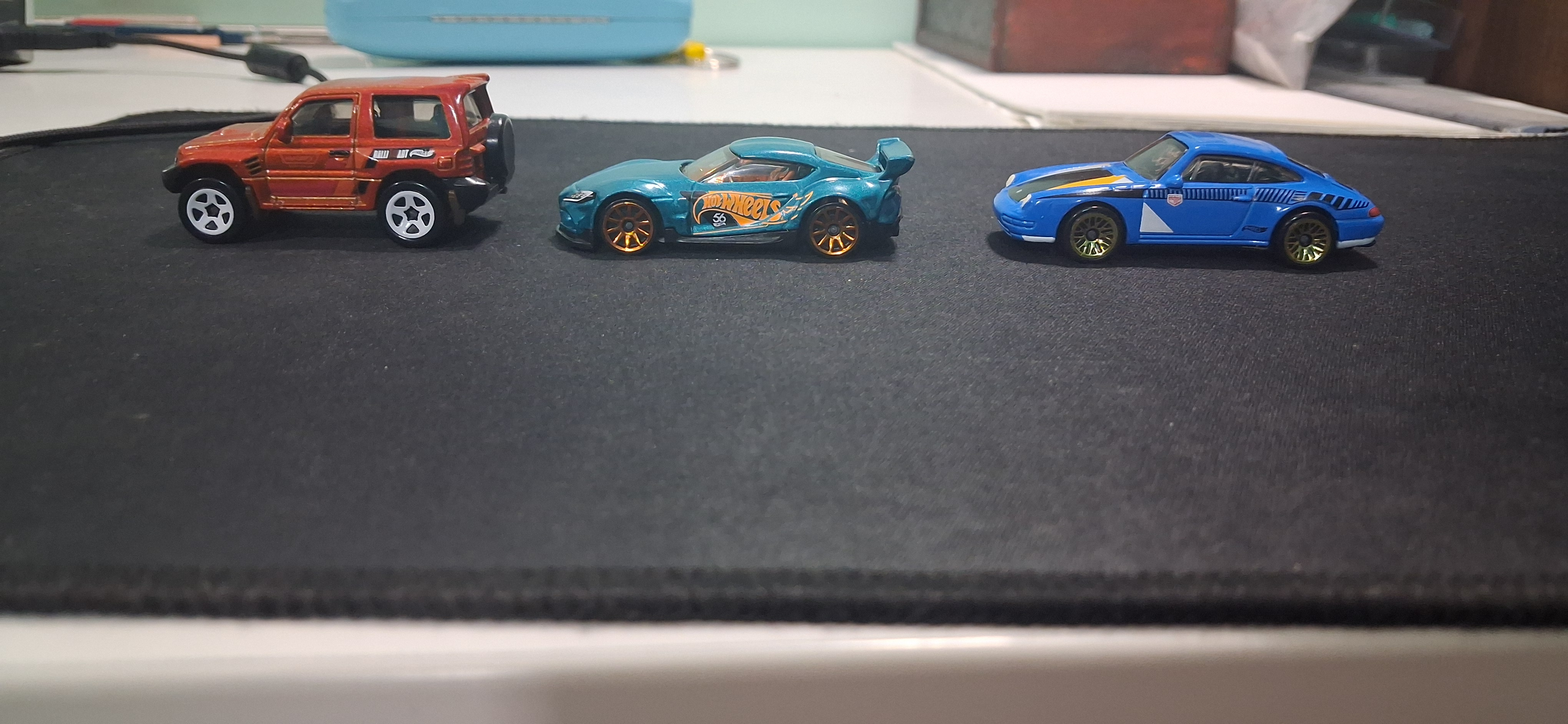Mitsubishi_Pajero_Evolution: (152, 35, 526, 249)
Porsche_Carrera: (952, 97, 1418, 296)
Toyota_GR_Supra: (539, 112, 930, 286)
